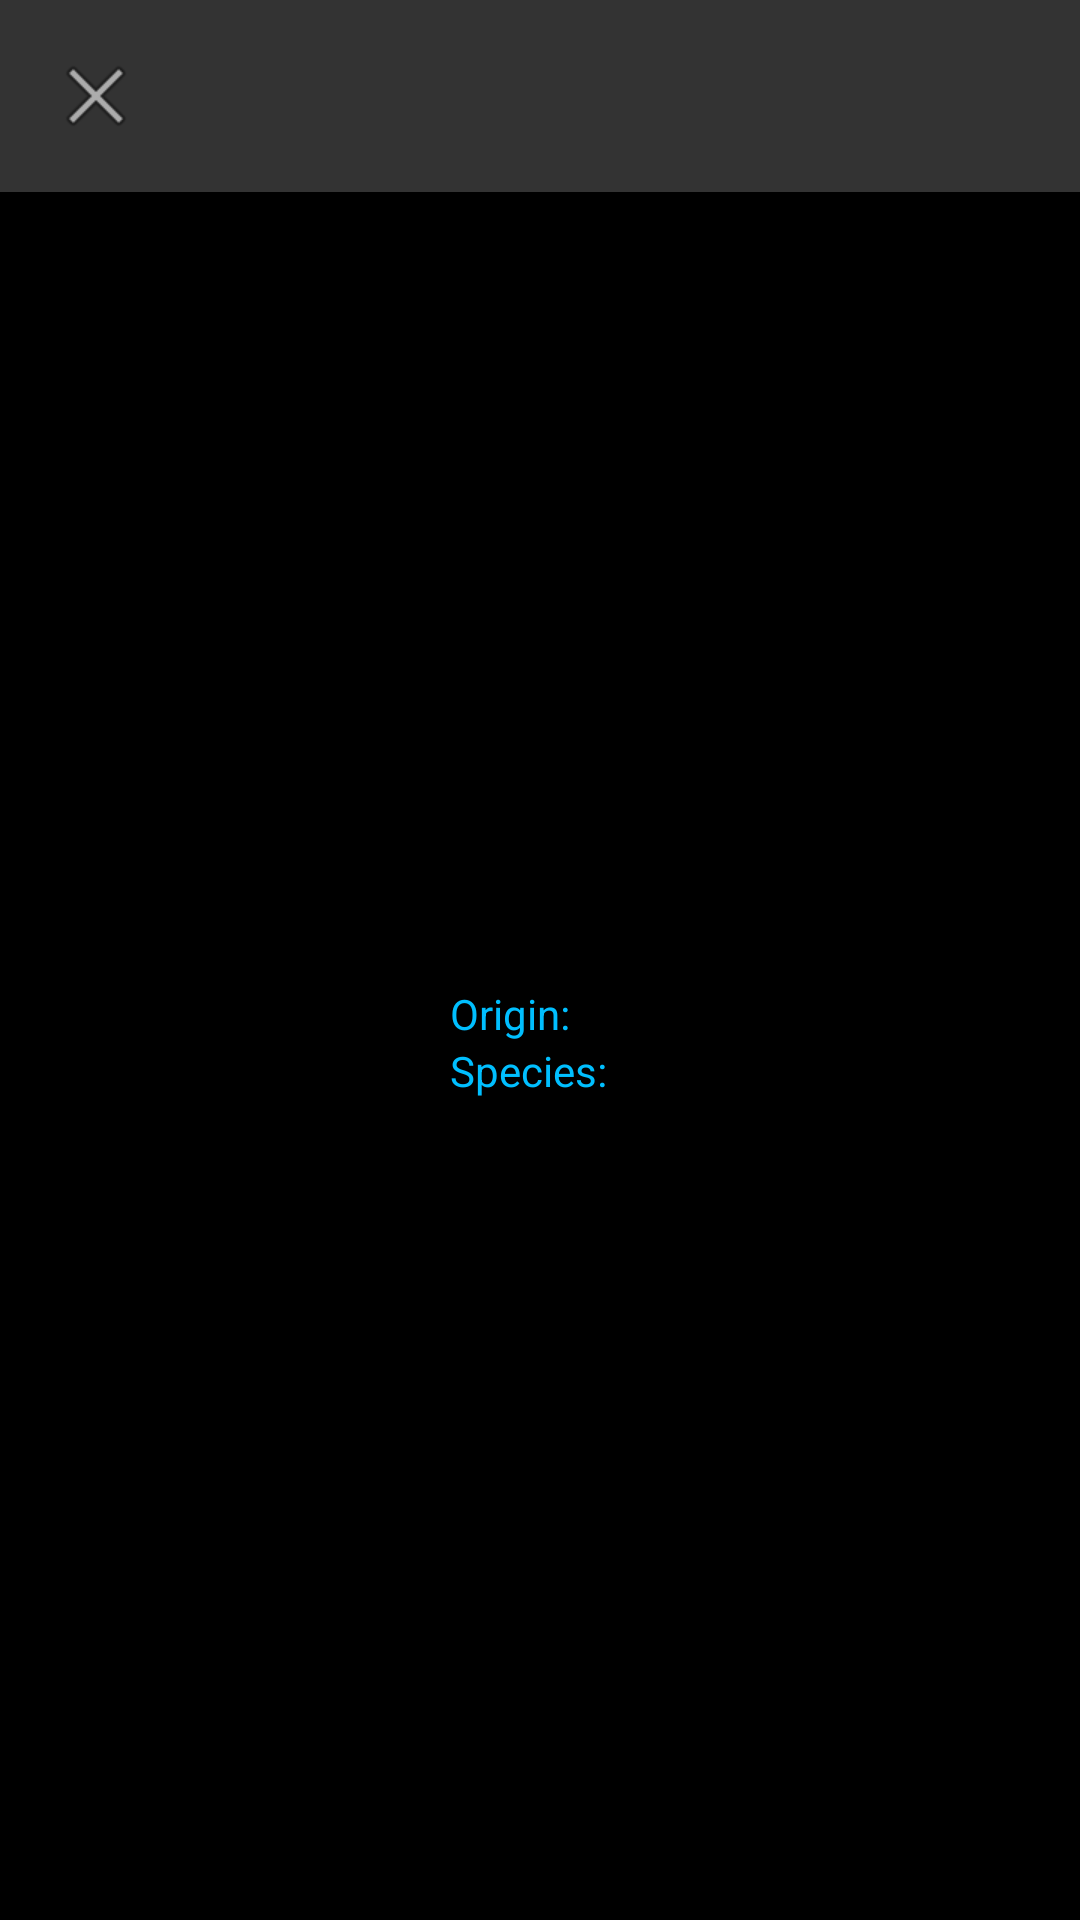

Icons on this 1080 × 1920 Android screen, each with the point to tap as [x,y]:
close clear cancel: [96,96]
